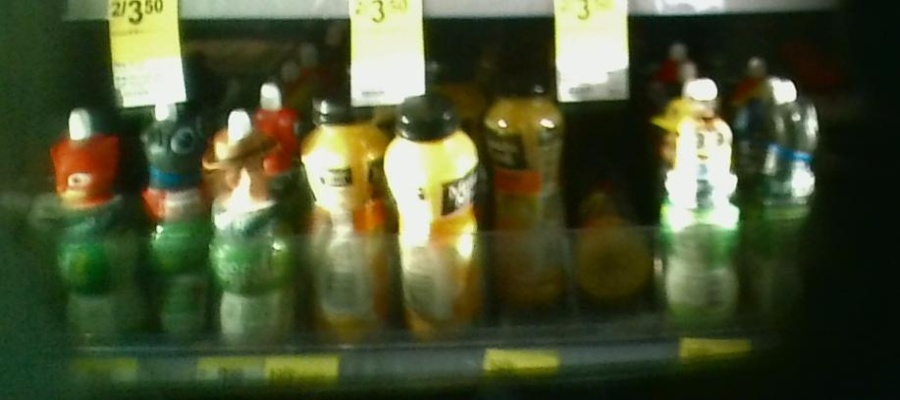bottle: (295, 93, 388, 345), (389, 98, 484, 342), (45, 106, 136, 344), (658, 72, 740, 318), (211, 102, 291, 345), (743, 75, 819, 316), (138, 97, 210, 342), (488, 67, 560, 304), (574, 210, 648, 315)
